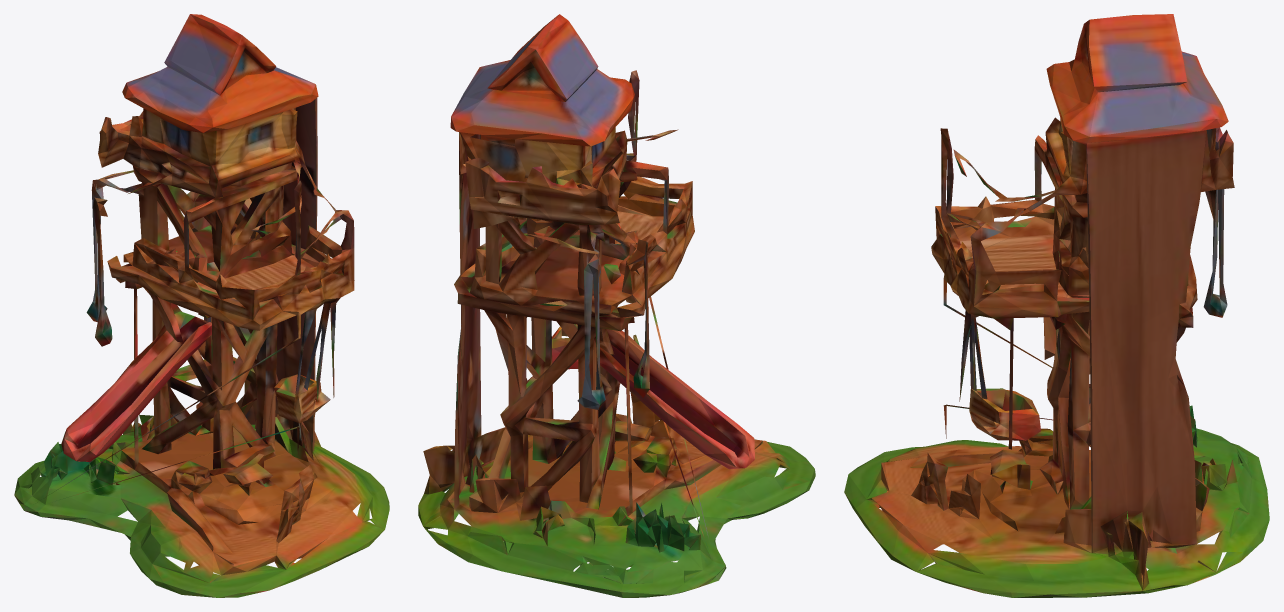
File: zipline_tower.glb
3 views of the same model, side by side, from view 1: azimuth 30°, elevation 25°; view 2: azimuth 150°, elevation 25°; view 3: azimuth 270°, elevation 25° (orthographic). The views are drawn at different scales.
Parts seen in each view (by area): view 1: textured_mesh.obj; view 2: textured_mesh.obj; view 3: textured_mesh.obj.
Part boxes in pixels (bbox=[...]): textured_mesh.obj: bbox=[14, 14, 389, 597]; textured_mesh.obj: bbox=[418, 14, 815, 597]; textured_mesh.obj: bbox=[844, 14, 1269, 597].
Bounding box in the file's own units: 8.73 × 13 × 9.65.
Materials: 1 (1 with a texture image).
